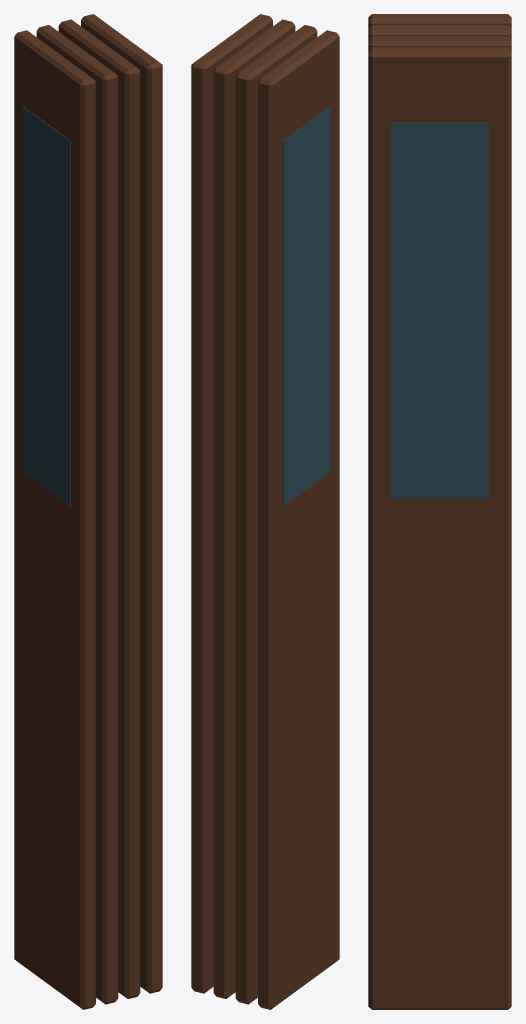
The model's file is lib_door_leaves.glb.
3 views of the same model, side by side, from view 1: azimuth 30°, elevation 25°; view 2: azimuth 150°, elevation 25°; view 3: azimuth 270°, elevation 25° (orthographic). The views are drawn at different scales.
Parts seen in each view (by area): view 1: leaves; view 2: leaves; view 3: leaves.
Part boxes in pixels (x1,y1,x2,y2): leaves: [14, 14, 162, 1009]; leaves: [191, 14, 339, 1009]; leaves: [368, 14, 511, 1009].
Size of the model in its own units: 0.264 by 2.8 by 0.38.
